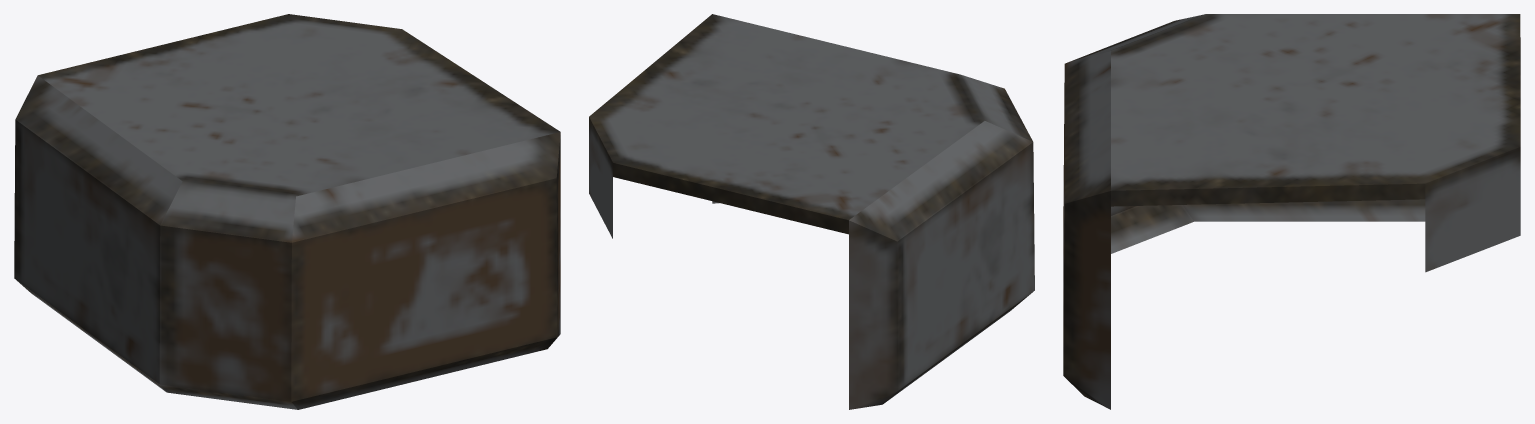
Rendered from mesh_BuildingA_TrimCornerCapRoofOuter_v2.3.fbx.
3 renders of one model, left to right at view 1: azimuth 30°, elevation 25°; view 2: azimuth 150°, elevation 25°; view 3: azimuth 270°, elevation 25°, orthographic. The views are drawn at different scales.
Visible parts, largest first — view 1: mesh_BuildingA_TrimCornerCapRoofOuter; view 2: mesh_BuildingA_TrimCornerCapRoofOuter; view 3: mesh_BuildingA_TrimCornerCapRoofOuter.
Boxes of the visible parts, left/top/right/bottom form: mesh_BuildingA_TrimCornerCapRoofOuter: left=14, top=14, right=560, bottom=409; mesh_BuildingA_TrimCornerCapRoofOuter: left=589, top=14, right=1034, bottom=409; mesh_BuildingA_TrimCornerCapRoofOuter: left=1063, top=14, right=1520, bottom=409.
Bounding box in the file's own units: 41 × 21.27 × 40.23.
